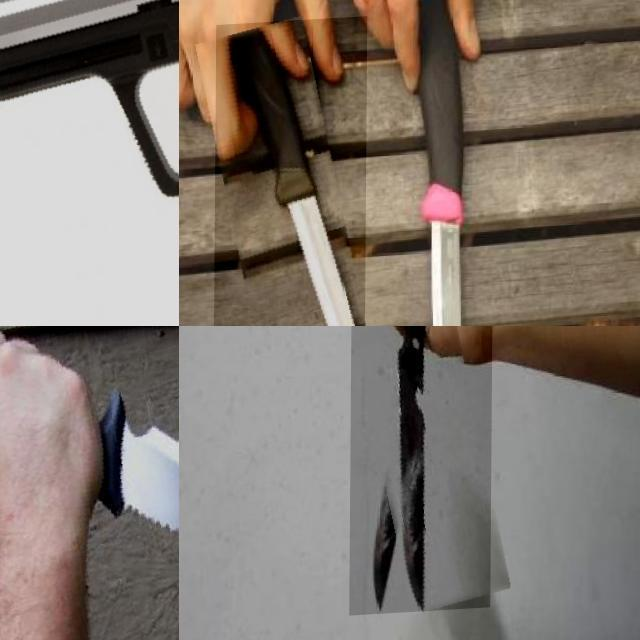-: (0, 326, 179, 640), (214, 18, 367, 326), (350, 326, 493, 619), (389, 16, 484, 326)
gun-knife-thesis - v11 Yolov5 augmented: (0, 0, 179, 326)
